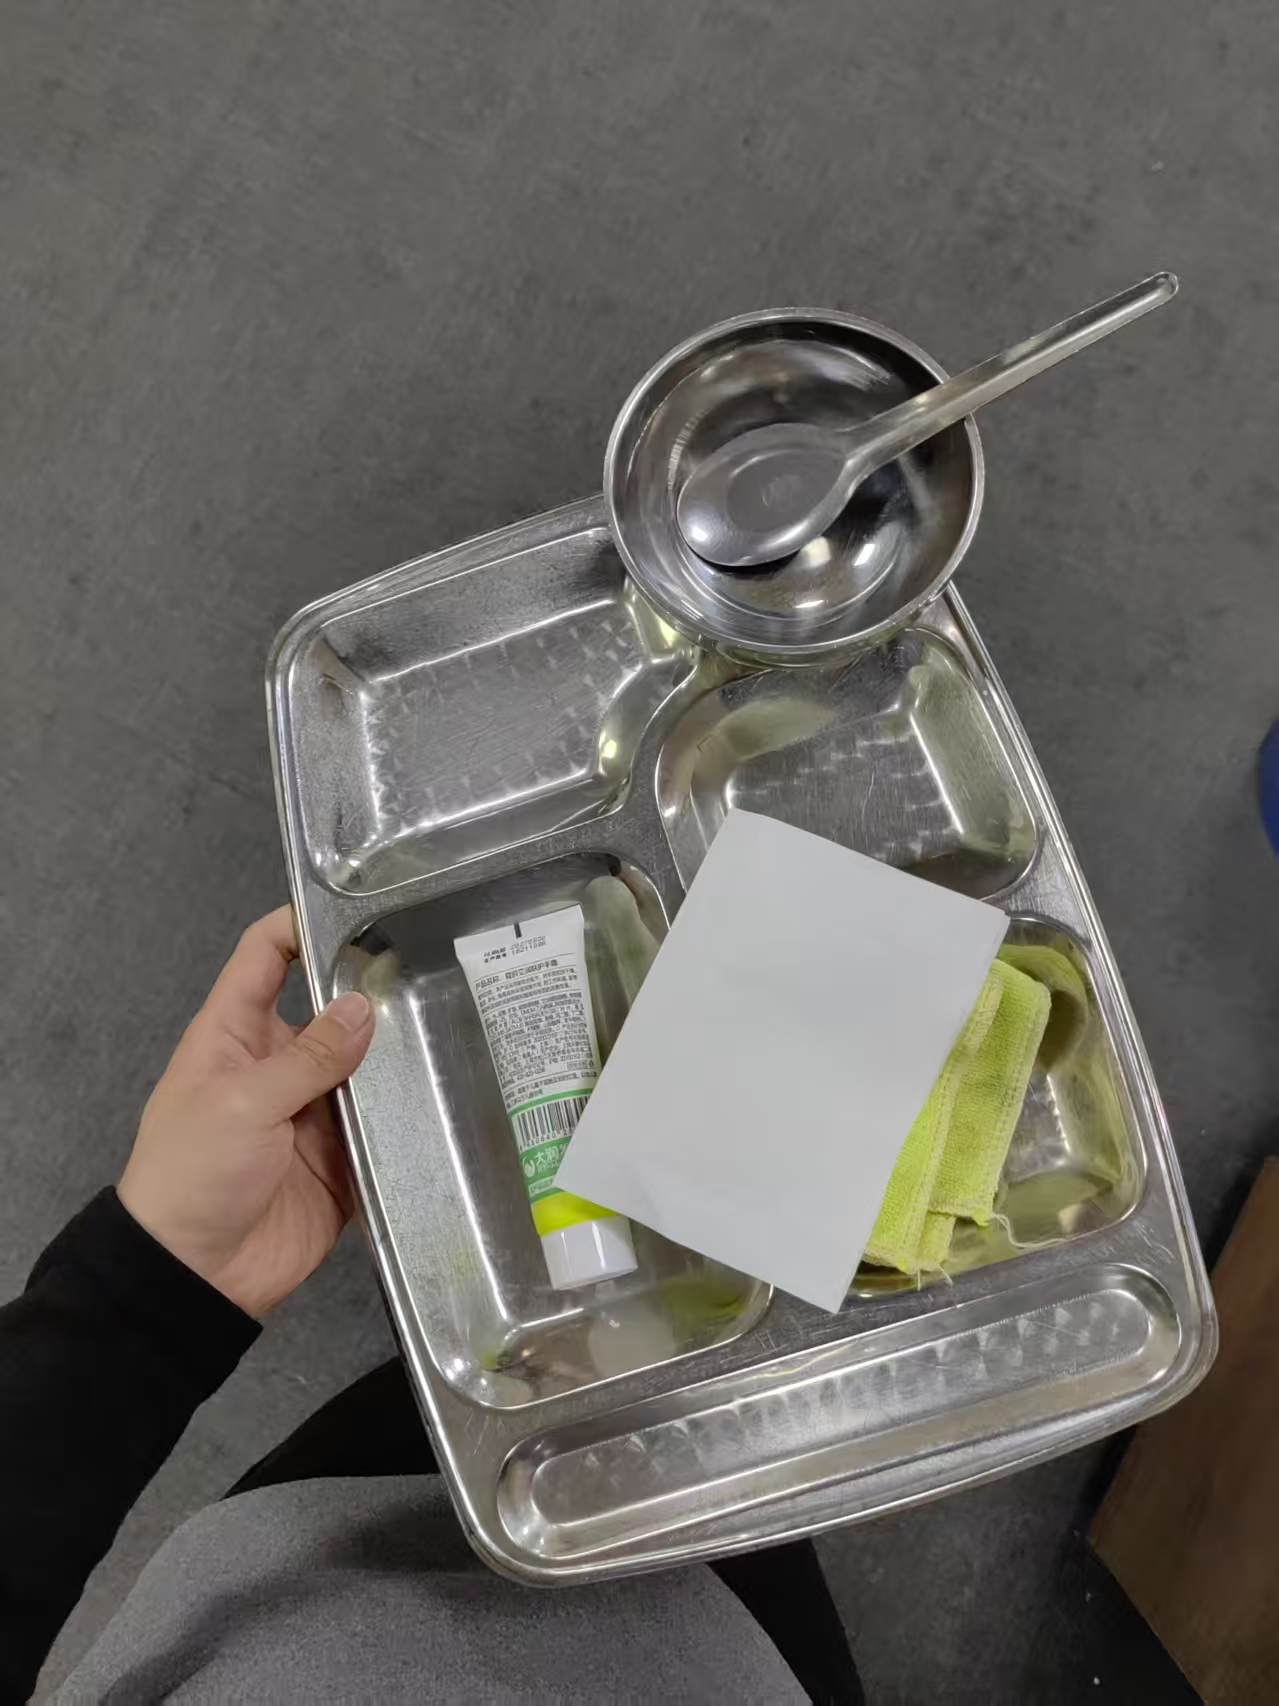moderate: (452, 875, 1054, 1300)
plate: (264, 421, 1223, 1593)
tissue: (554, 806, 1011, 1316)
